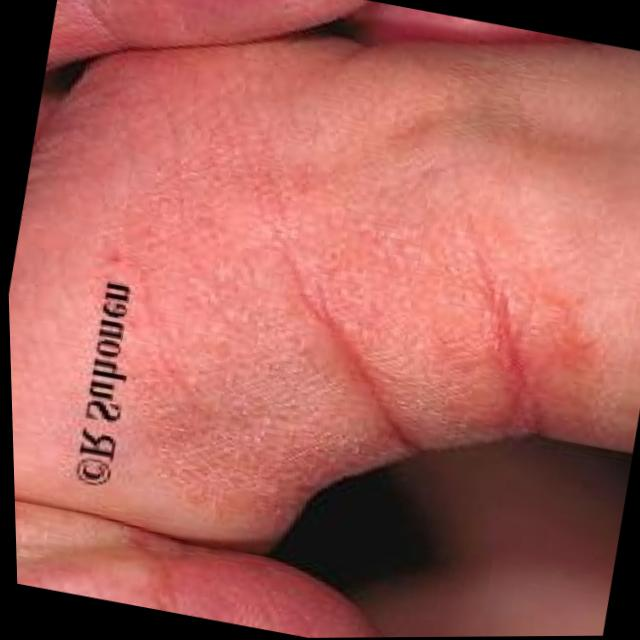Eczema: (14, 9, 626, 614)
